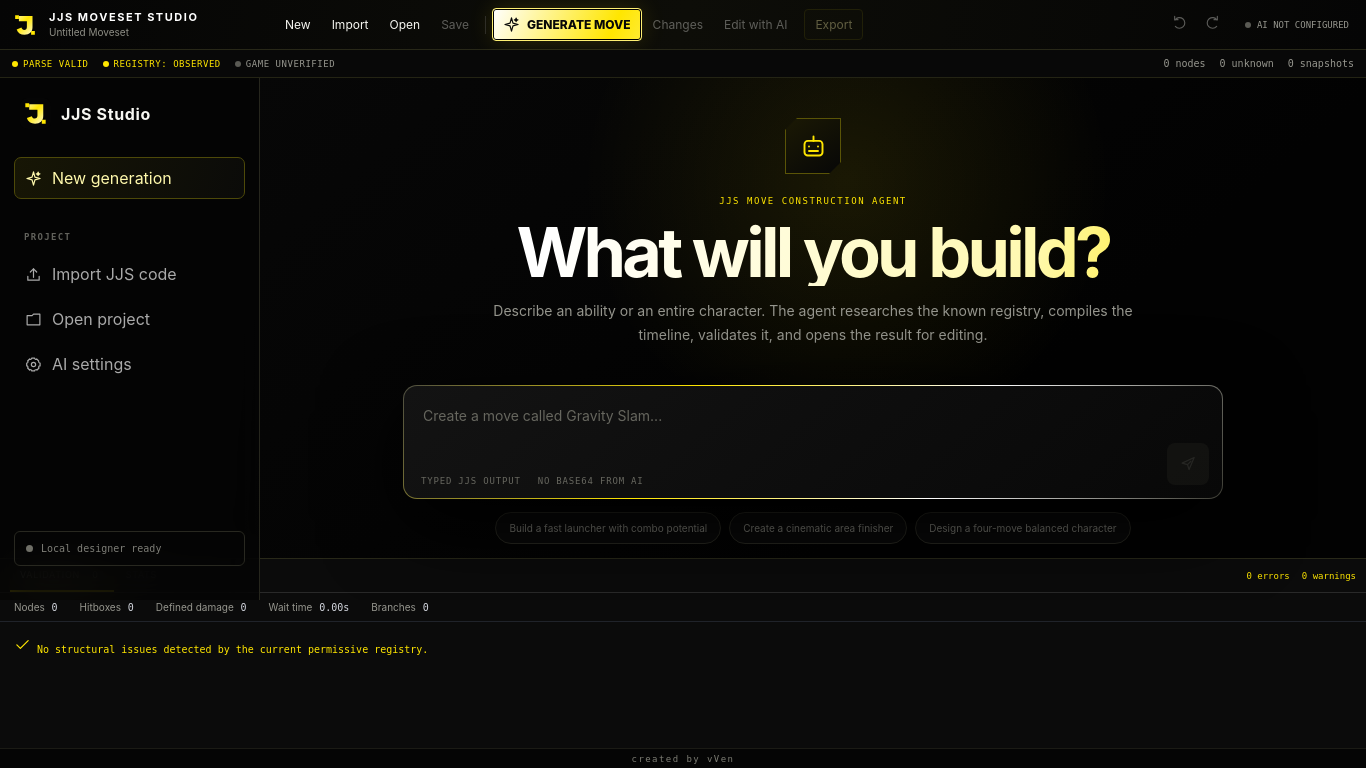
Test: Moveset Studio import workflow › carries the chatbot prompt into the move generator
Type "Build a precise counter attack with a delayed launcher" into the text box named "describe a move to generate" at (813, 442), box [404, 386, 1222, 498]
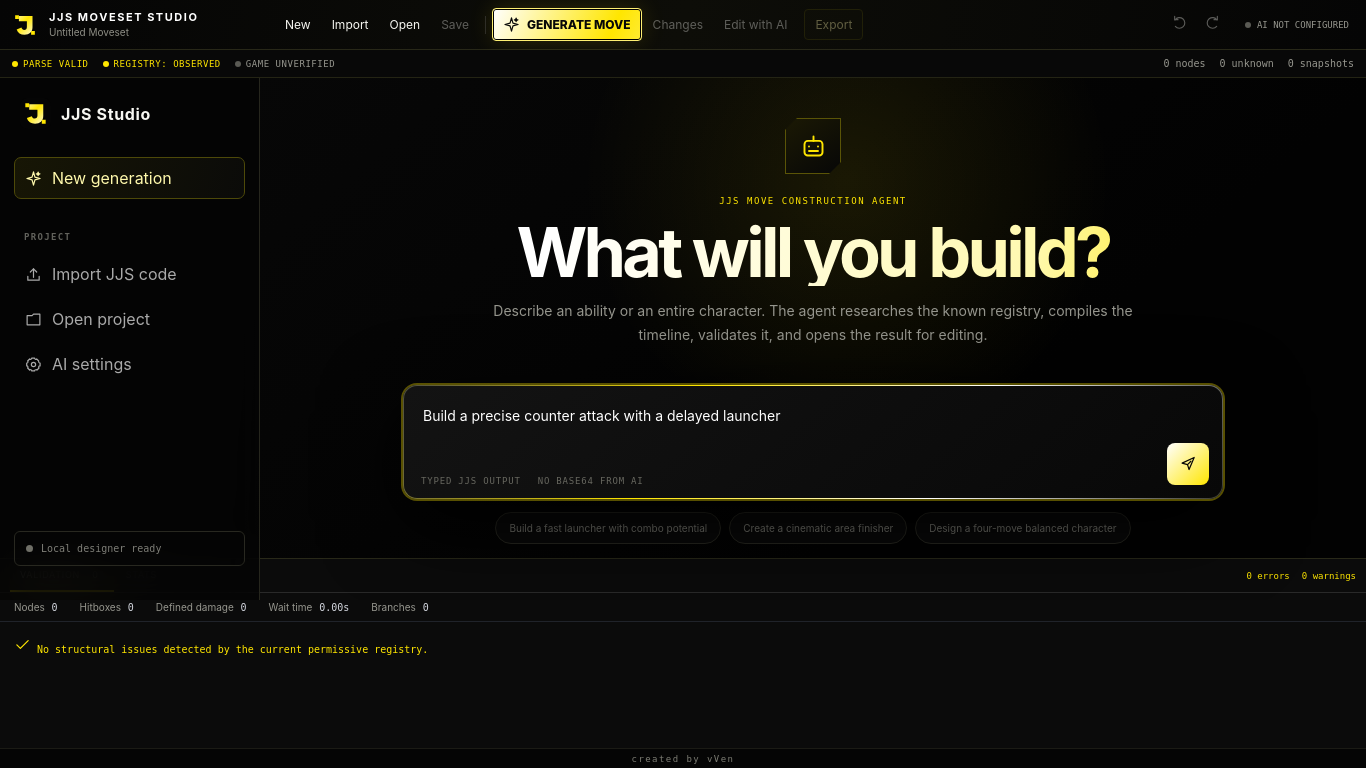
Click the button named "send generation prompt" at (1188, 464), box [1167, 442, 1209, 484]
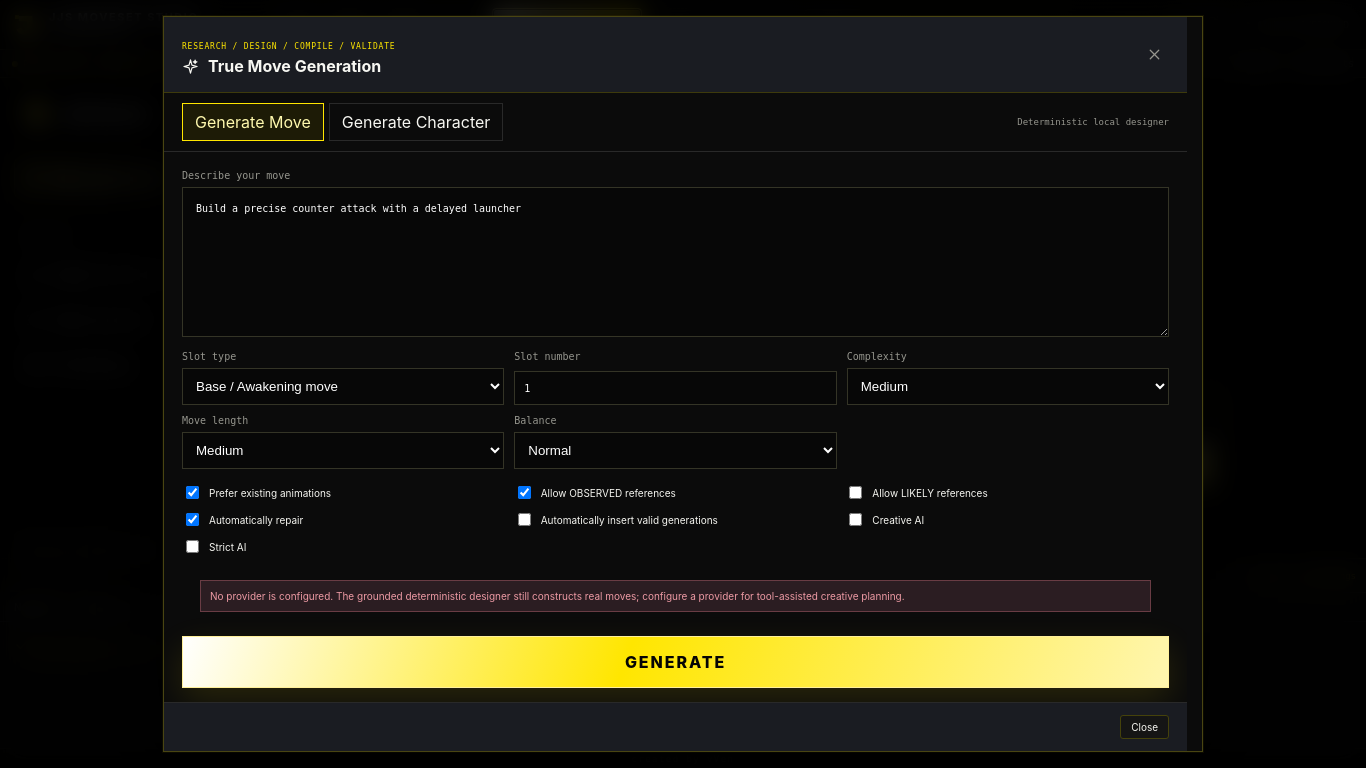
Now the text box labelled "Describe your move" holds "Build a precise counter attack with a delayed launcher", box [182, 187, 1169, 337]
